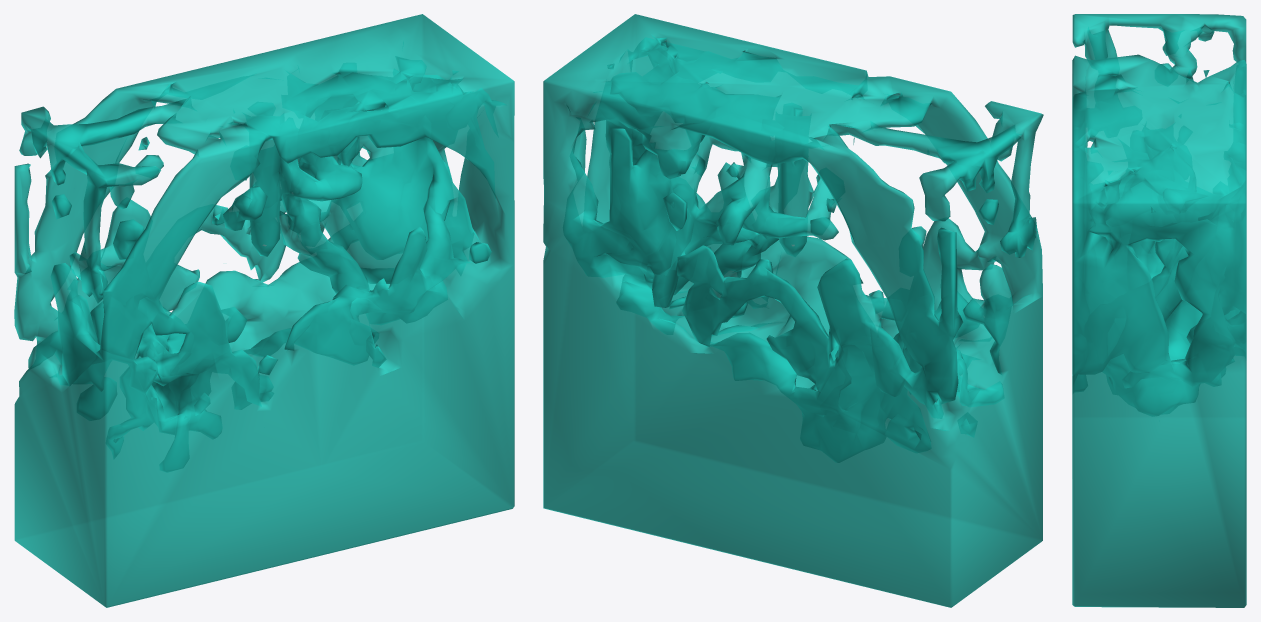
3 renders of one model, left to right at view 1: azimuth 30°, elevation 25°; view 2: azimuth 150°, elevation 25°; view 3: azimuth 270°, elevation 25°, orthographic. The views are drawn at different scales.
Parts seen in each view (by area): view 1: Liquid_Domain; view 2: Liquid_Domain; view 3: Liquid_Domain.
Boxes of the visible parts, bbox=[...] form: Liquid_Domain: bbox=[14, 14, 514, 607]; Liquid_Domain: bbox=[543, 14, 1043, 607]; Liquid_Domain: bbox=[1072, 14, 1246, 607].
Bounding box in the file's own units: 884 × 884 × 345.
